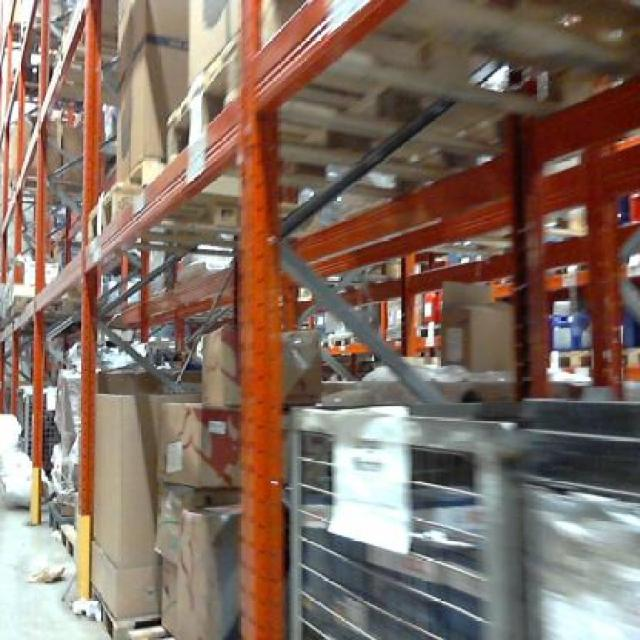pallet: (157, 45, 244, 162), (75, 184, 114, 252)
